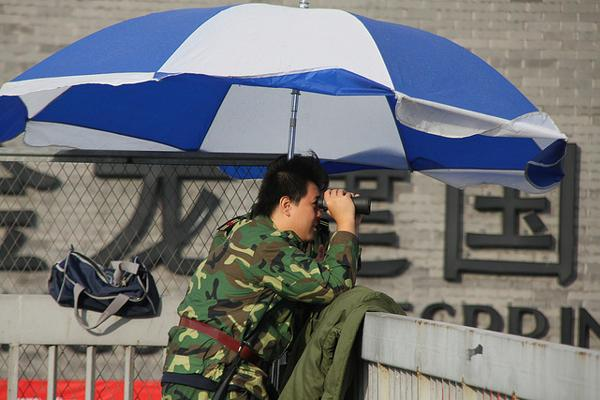person: (163, 161, 364, 400)
